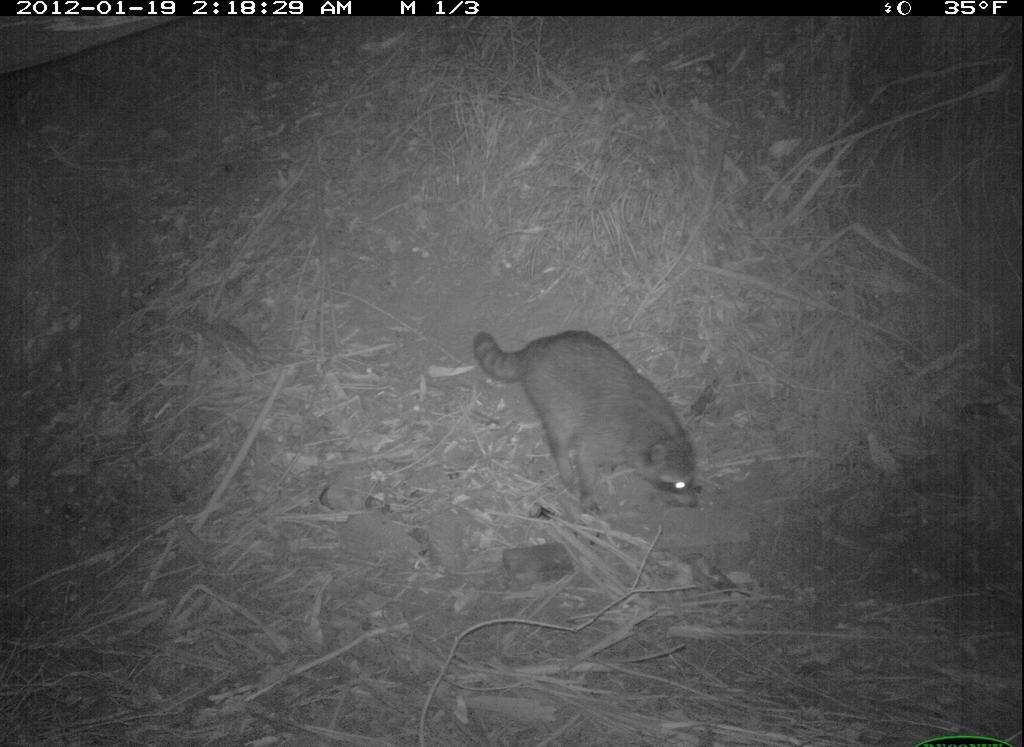raccoon: (469, 319, 707, 530)
